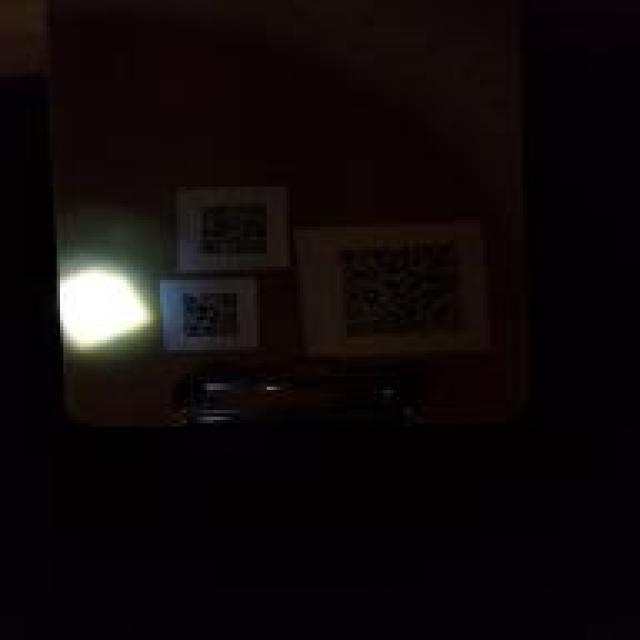QR_CODE: (330, 235, 480, 350), (192, 194, 280, 264), (170, 283, 250, 347)
